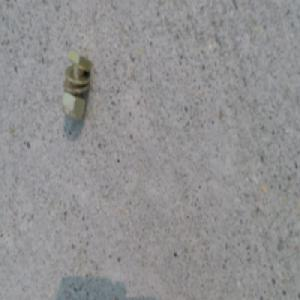BoltNutSet: (64, 55, 93, 125)
